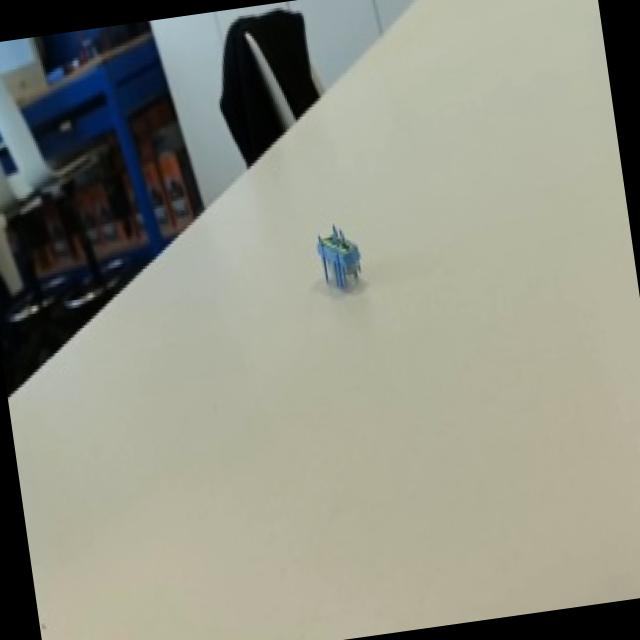3_NanoBug_Celeste: (289, 200, 381, 318)
